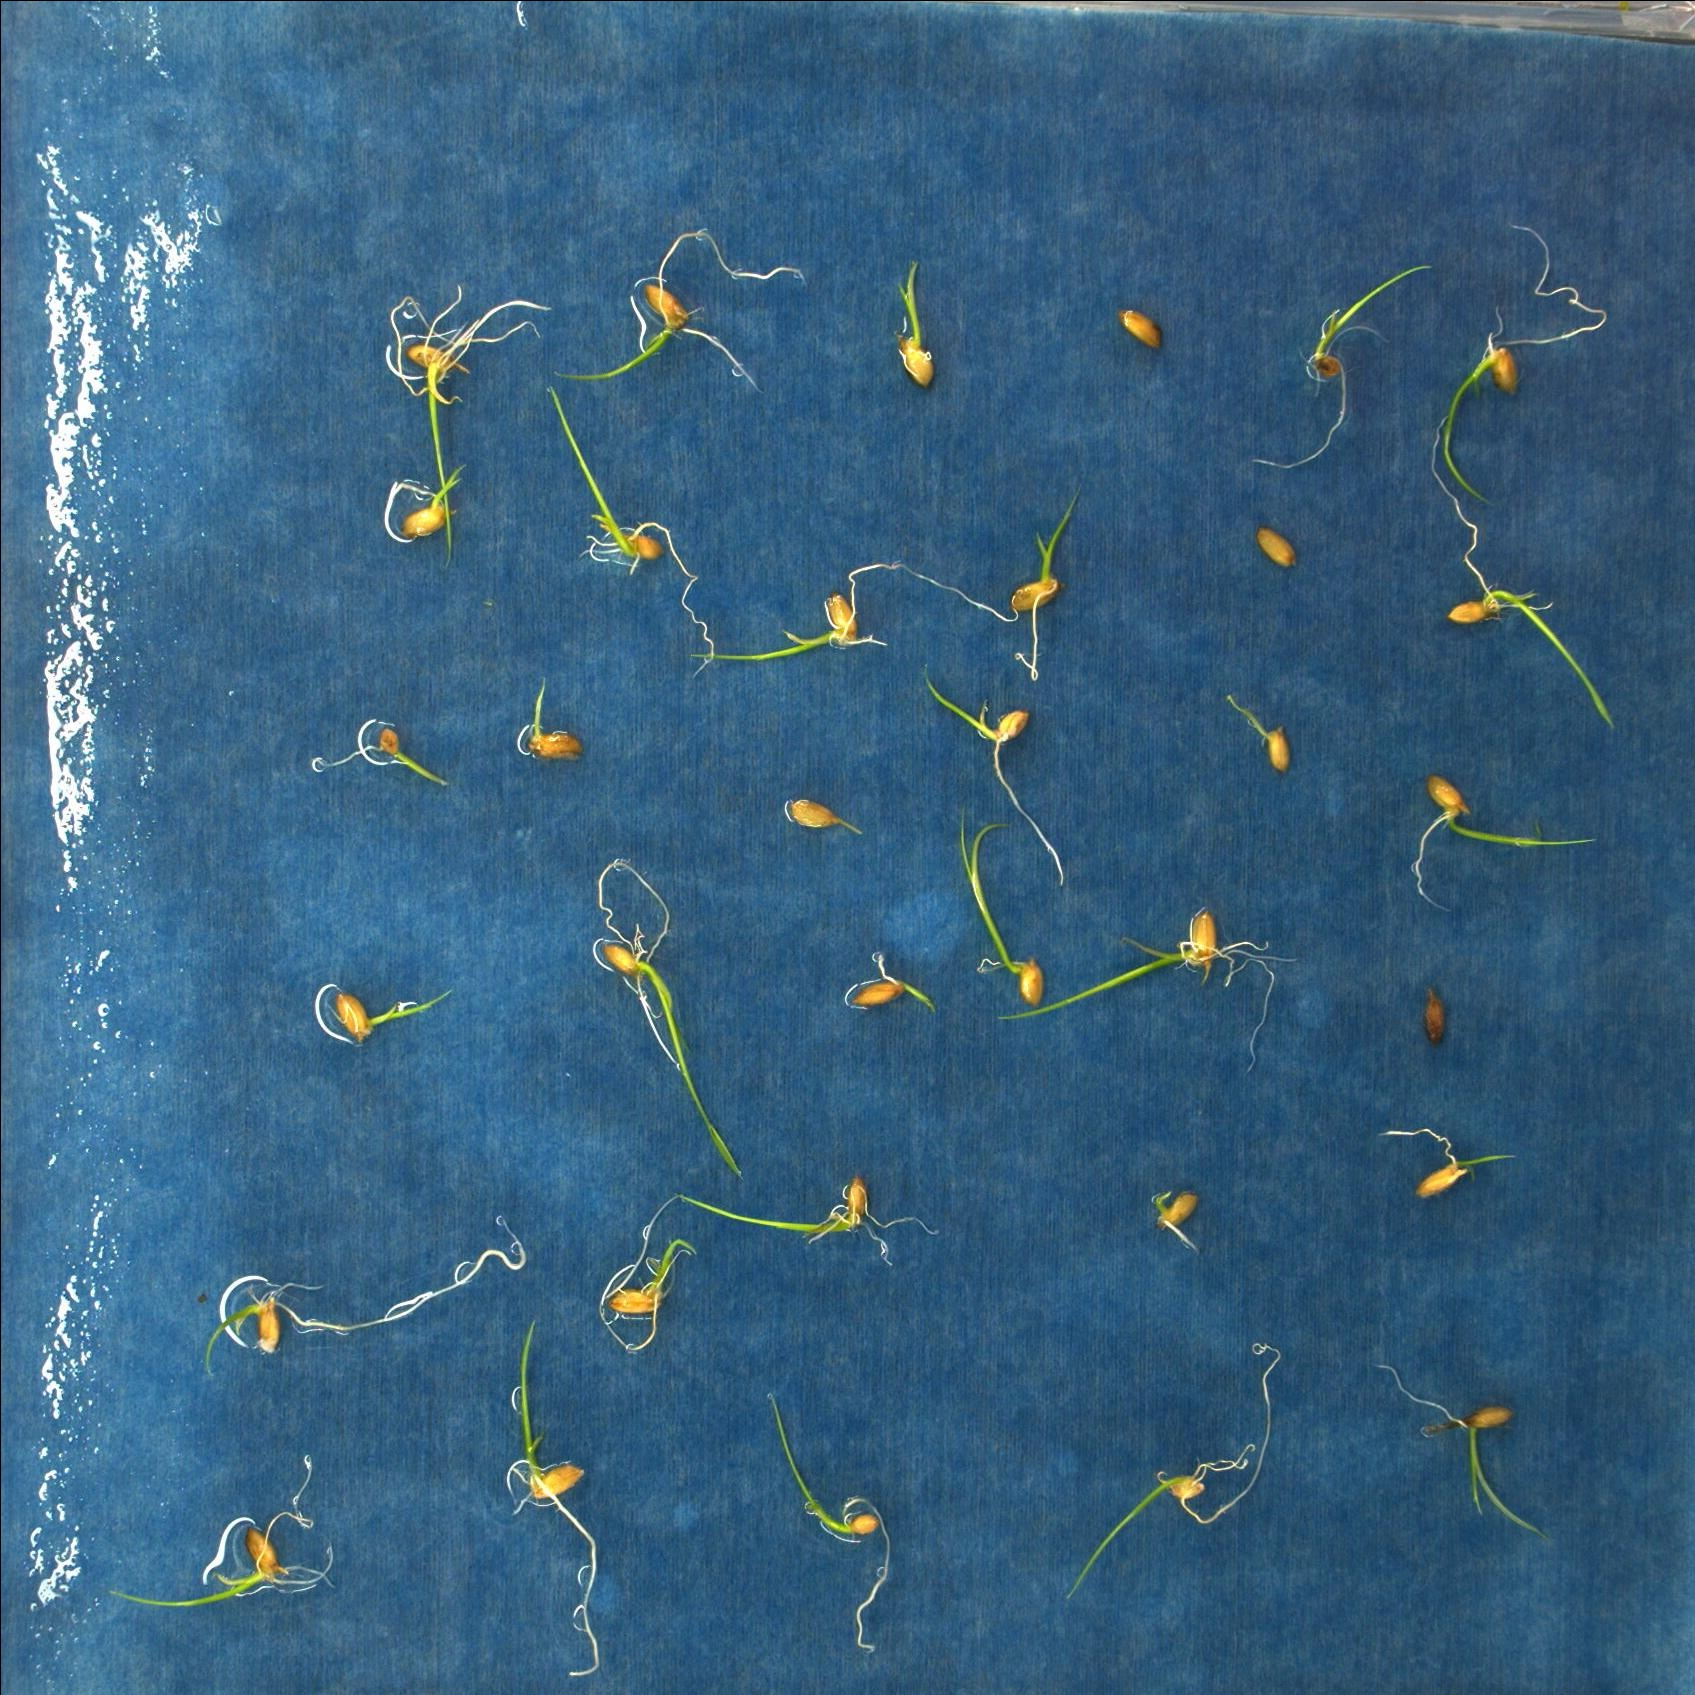not sprout: (789, 801, 872, 837), (1116, 298, 1166, 355), (1254, 520, 1298, 571), (1419, 983, 1450, 1049)
sprout: (1430, 408, 1617, 734), (1066, 1340, 1281, 1596), (998, 906, 1304, 1071), (591, 861, 744, 1183), (206, 1225, 526, 1374), (386, 281, 554, 562), (1450, 220, 1614, 504), (556, 394, 720, 674), (549, 224, 810, 394), (1256, 261, 1426, 473), (506, 1319, 604, 1676), (110, 1458, 335, 1611), (767, 1394, 893, 1655), (694, 557, 1001, 661), (924, 661, 1066, 882), (1378, 1357, 1538, 1534), (1414, 768, 1599, 910), (680, 1180, 945, 1268), (955, 807, 1048, 1004), (989, 495, 1088, 678), (601, 1198, 700, 1357), (1383, 1124, 1520, 1205), (380, 456, 480, 551), (317, 723, 449, 789), (331, 981, 461, 1038), (849, 951, 944, 1015), (1220, 688, 1287, 773), (899, 256, 942, 386), (522, 681, 576, 762), (1150, 1187, 1198, 1250)
